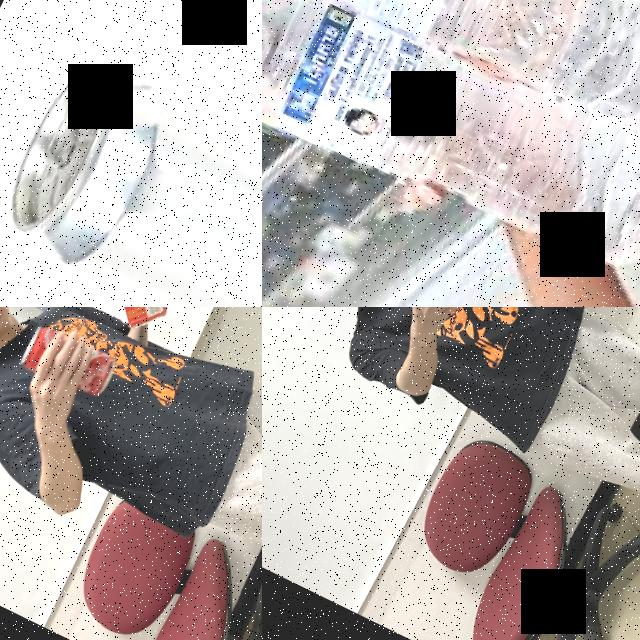bottle: (262, 0, 640, 302), (262, 0, 640, 177)
can: (0, 35, 262, 307), (19, 320, 120, 402)
